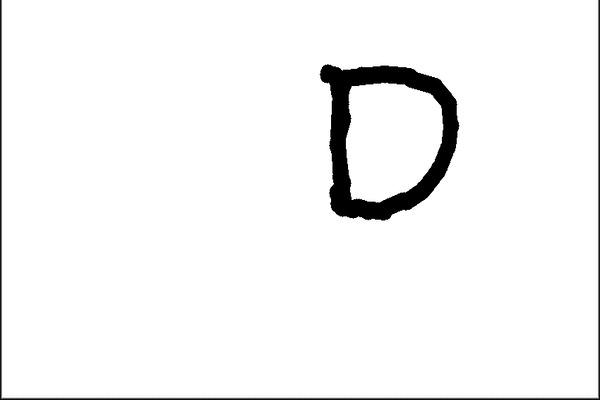D: (315, 54, 463, 227)
